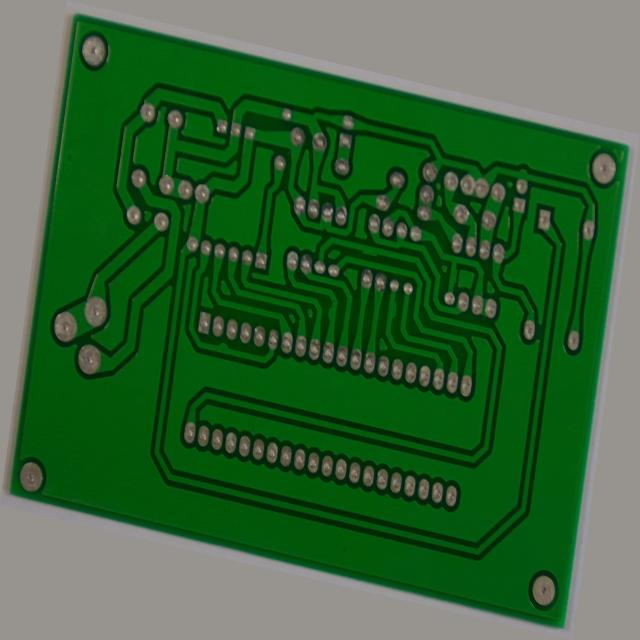spur: (349, 210, 379, 232), (205, 370, 232, 392), (390, 269, 405, 303), (324, 293, 337, 321), (452, 214, 465, 238)
